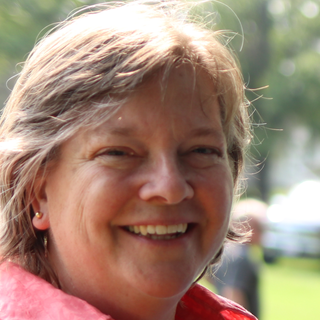eye: (90, 142, 141, 165), (180, 140, 226, 164)
